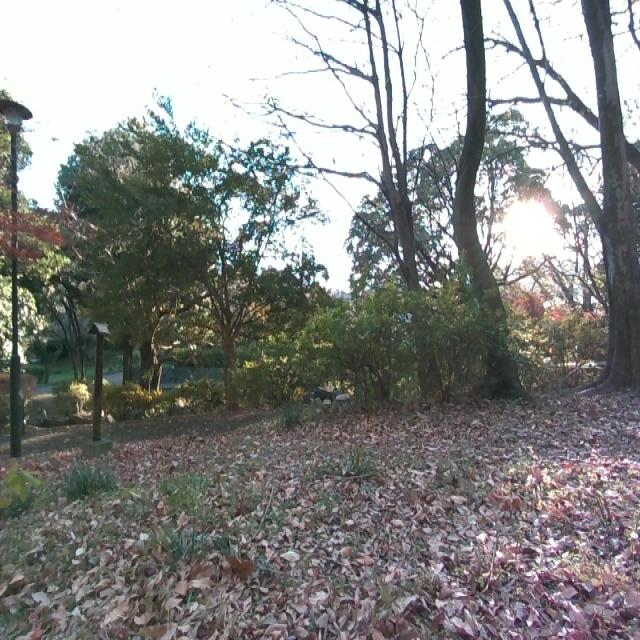artifact: (0, 91, 36, 452)
bush: (286, 276, 522, 412)
tree: (275, 0, 446, 411), (523, 0, 640, 397), (434, 0, 530, 403), (174, 170, 260, 420), (84, 230, 115, 444)
